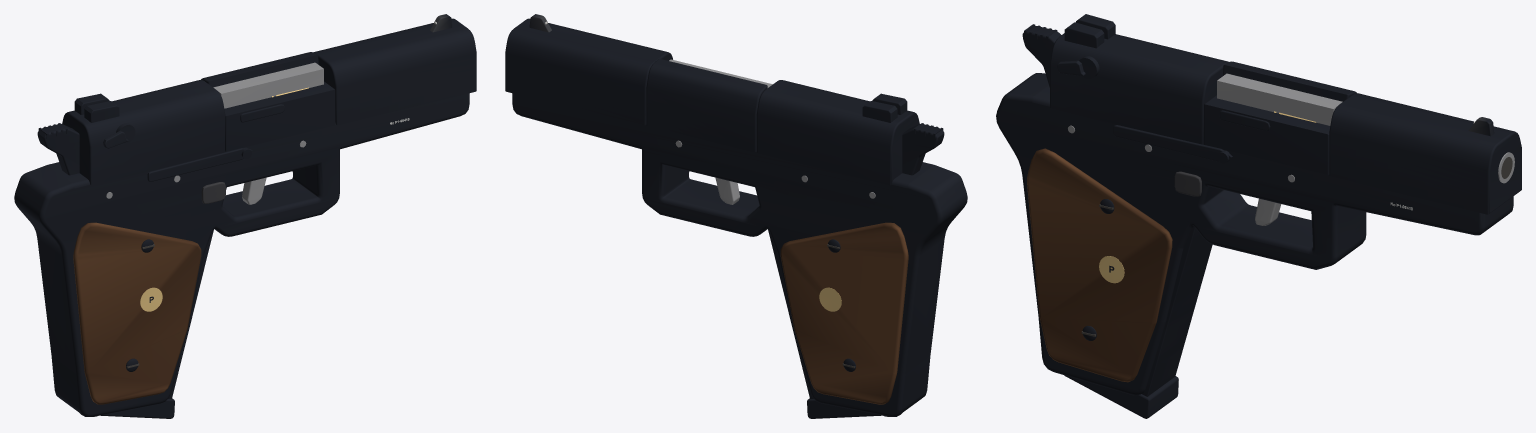
File: pars.glb
3 views of the same model, side by side, from view 1: azimuth 30°, elevation 25°; view 2: azimuth 150°, elevation 25°; view 3: azimuth 330°, elevation 25° (orthographic). The views are drawn at different scales.
Visible parts, largest first — view 1: cerceve, surgu, sarjor; view 2: cerceve, surgu, sarjor; view 3: cerceve, surgu, sarjor.
Part boxes in pixels (x1,y1,x2,y2): cerceve: (14,93,469,416); surgu: (62,14,476,185); sarjor: (100,229,213,418); cerceve: (512,93,967,416); surgu: (505,14,919,185); sarjor: (768,229,881,418); cerceve: (996,24,1513,395); surgu: (1050,14,1521,214); sarjor: (1064,227,1212,418).
Size of the model in its own units: 0.2257 by 0.16 by 0.0342.
